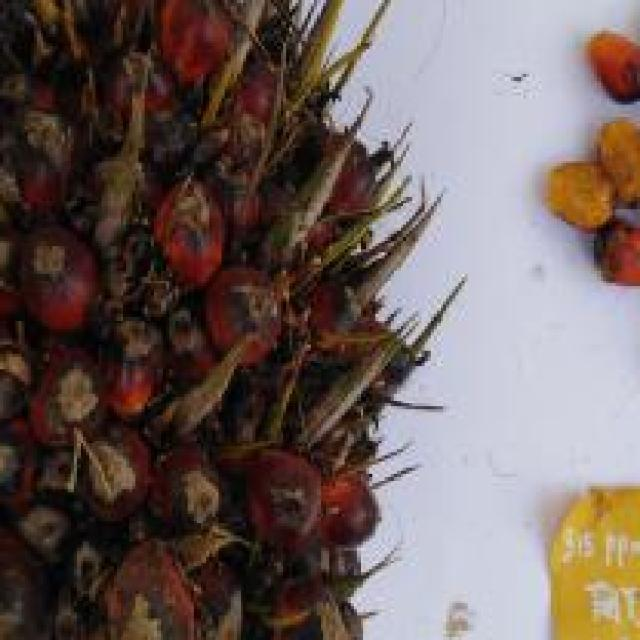underripe: (0, 0, 412, 640)
